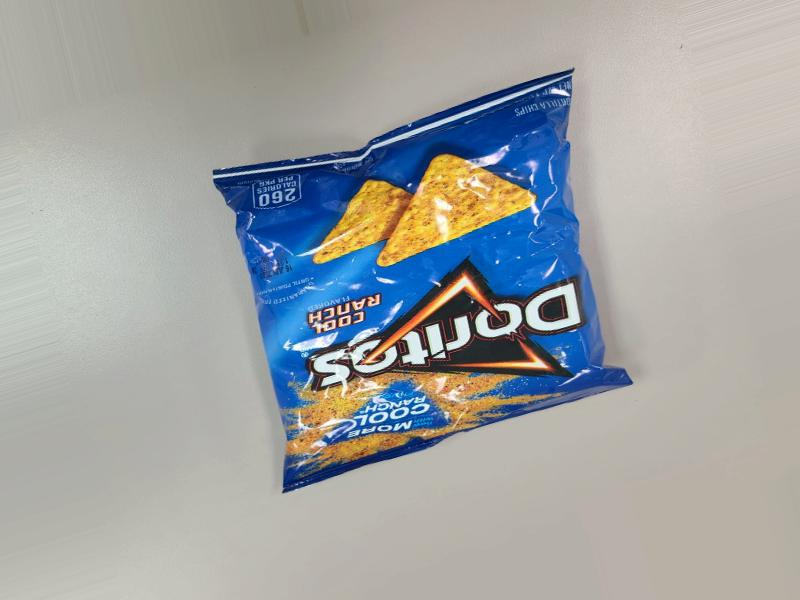doritos: (292, 86, 567, 512)
